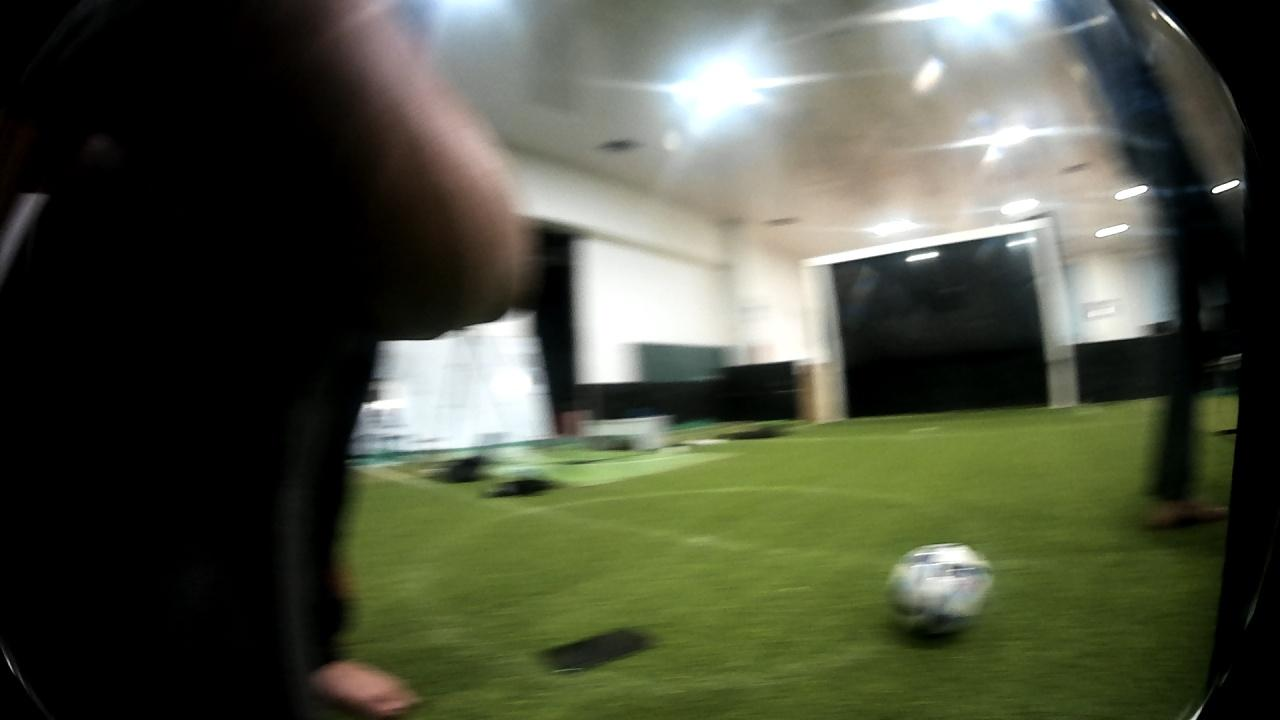ball: (887, 535, 992, 637)
